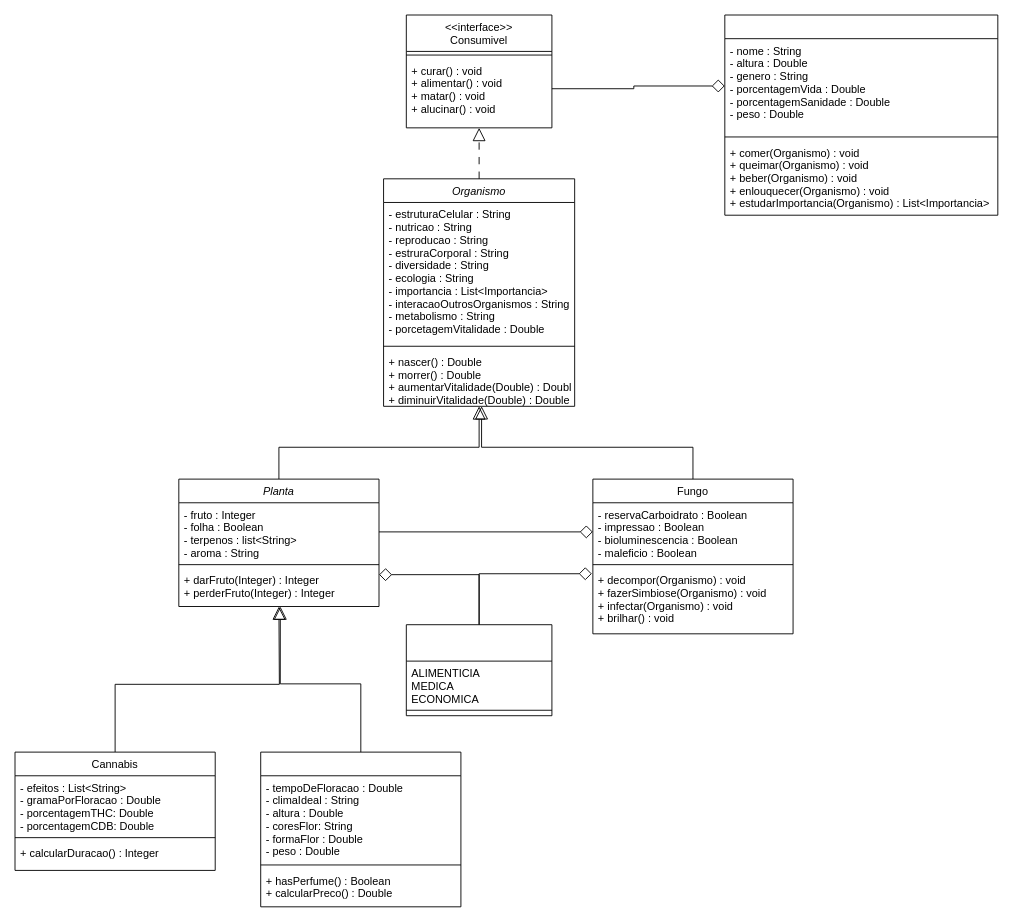
This 1013x922 diagram has some shape labels left out. Each missing label, with the box of its shape:
ENUM Importancia: (405, 624, 552, 716)
Lavanda: (260, 751, 461, 907)
SerVivo: (724, 14, 998, 215)
